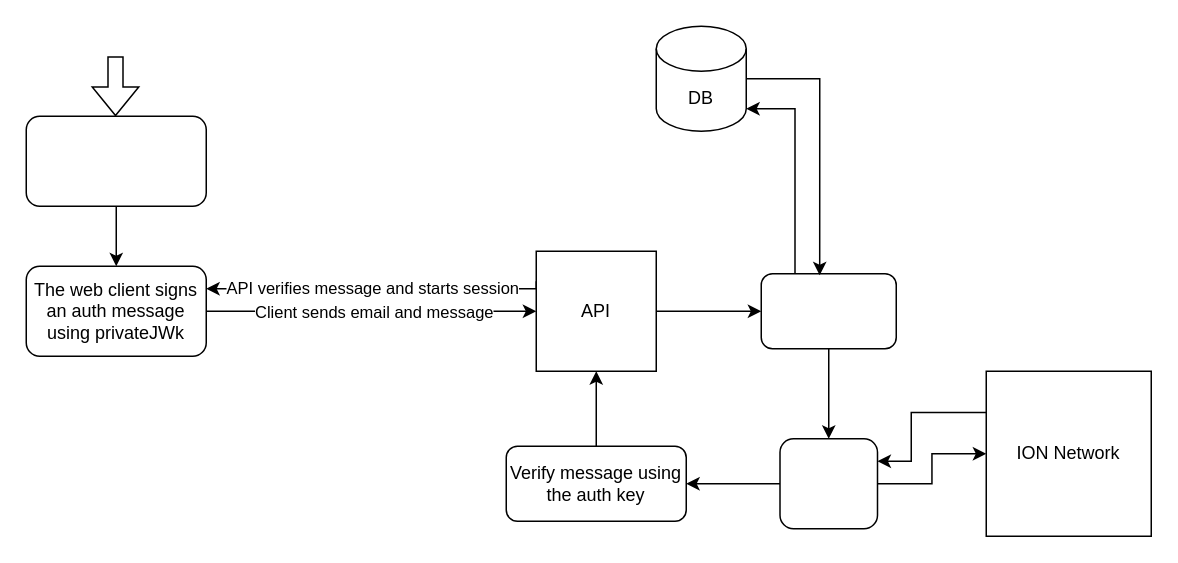
Image size: 1178x563. Some labels were removed from this diagram. Each missing label, with the centre of its shape:
"Get auth key from ION" belongs at (x=828, y=483).
"Retrieve DID URI from db" belongs at (x=828, y=310).
"User Submits email and privateJWK" belongs at (x=115, y=160).
